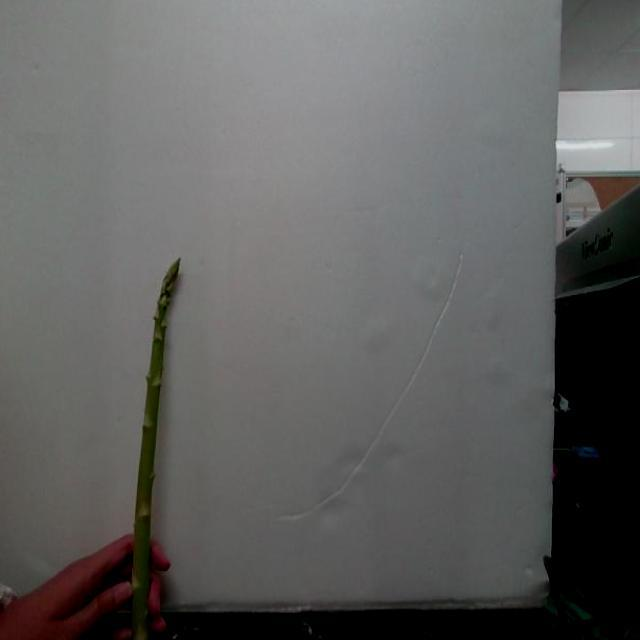aspargus: (132, 260, 181, 640)
